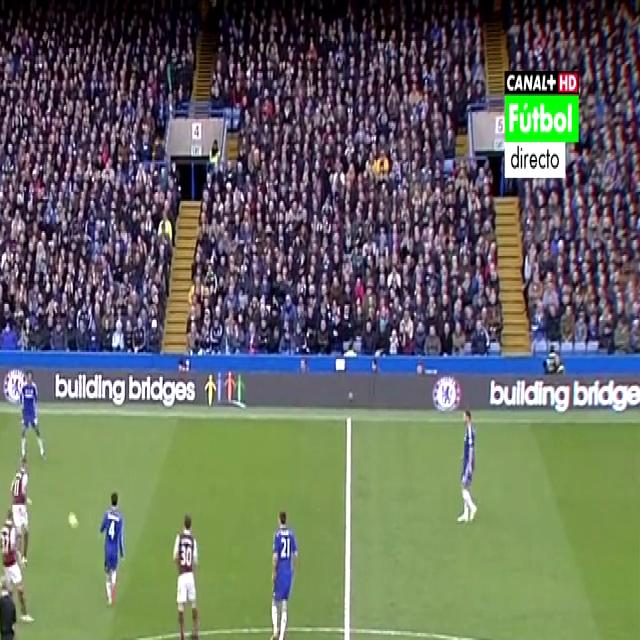ball: (66, 506, 80, 540)
referee: (0, 569, 23, 640)
soccer-player: (260, 499, 299, 640), (167, 501, 205, 640), (91, 484, 129, 616), (452, 400, 482, 530), (0, 512, 29, 629), (15, 363, 47, 461), (3, 451, 29, 550), (176, 633, 212, 640)
